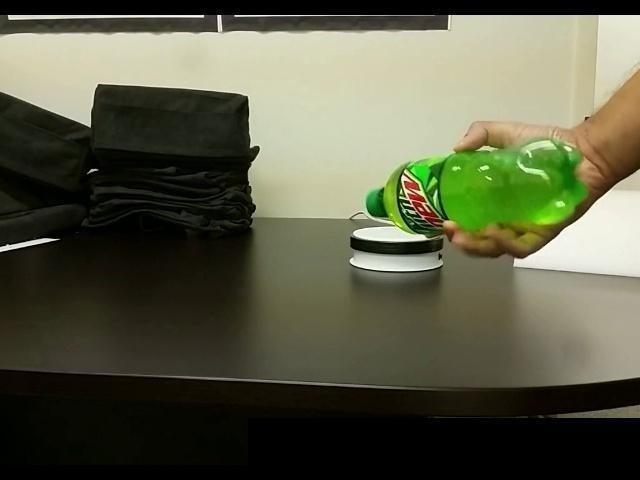bottle-plastic: (361, 131, 596, 241)
